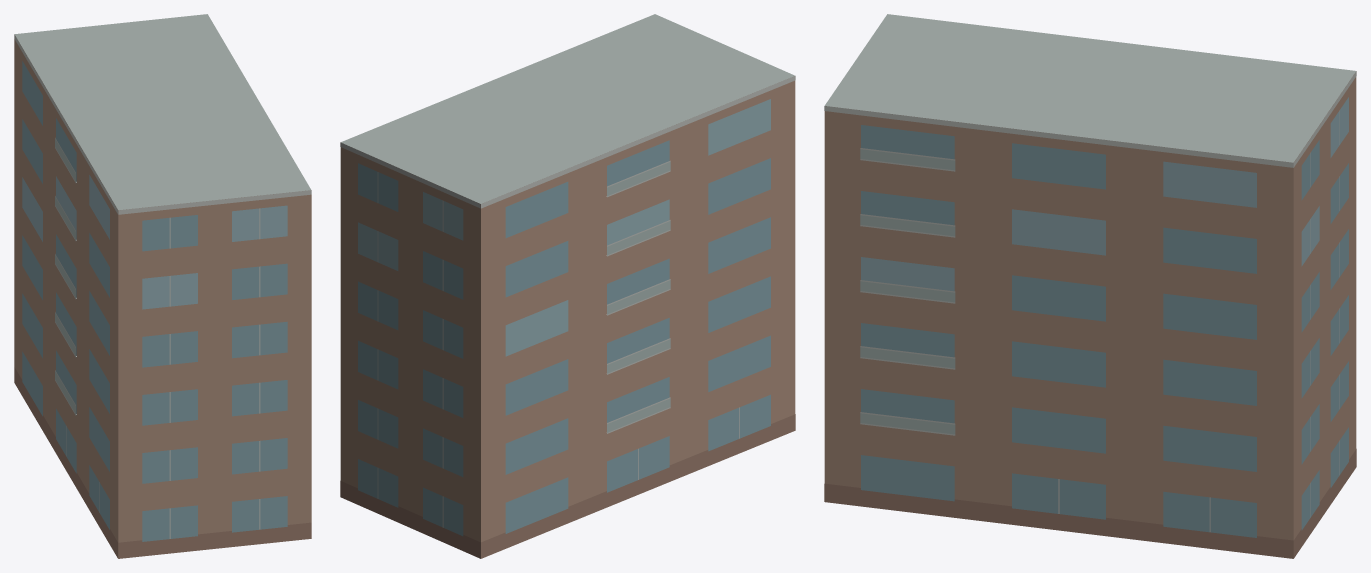
The model's file is survey-upis-32748138.glb.
3 renders of one model, left to right at view 1: azimuth 30°, elevation 25°; view 2: azimuth 150°, elevation 25°; view 3: azimuth 270°, elevation 25°, orthographic. The views are drawn at different scales.
Parts seen in each view (by area): view 1: survey-upis-32748138.tmp; view 2: survey-upis-32748138.tmp; view 3: survey-upis-32748138.tmp.
Boxes of the visible parts, x1,y1,x2,y2 form: survey-upis-32748138.tmp: (14, 14, 311, 558); survey-upis-32748138.tmp: (340, 14, 795, 558); survey-upis-32748138.tmp: (824, 14, 1356, 558).
Bounding box in the file's own units: 15.06 × 18.7 × 22.77.
